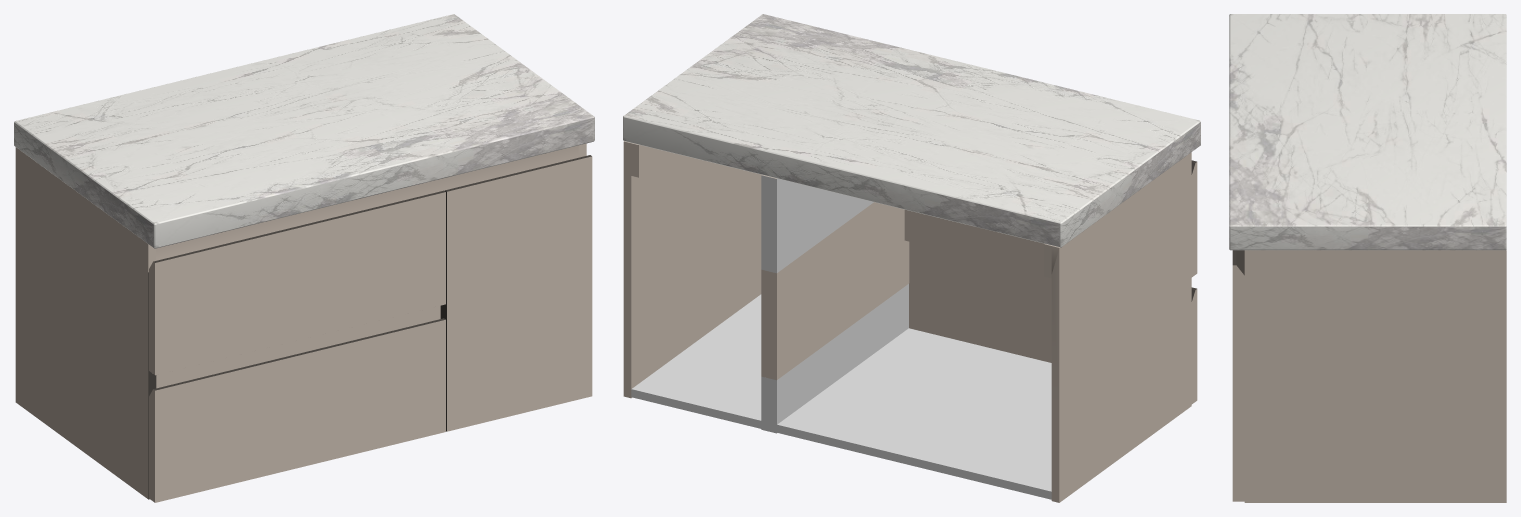
3 renders of one model, left to right at view 1: azimuth 30°, elevation 25°; view 2: azimuth 150°, elevation 25°; view 3: azimuth 270°, elevation 25°, orthographic.
Parts seen in each view (by area): view 1: VX07; view 2: VX07; view 3: VX07.
Part boxes in pixels (x1,y1,x2,y2): VX07: [14, 14, 594, 502]; VX07: [623, 14, 1200, 502]; VX07: [1229, 14, 1506, 502].
Size of the model in its own units: 0.904 by 0.552 by 0.5.
Materials: 4 (1 with a texture image).
